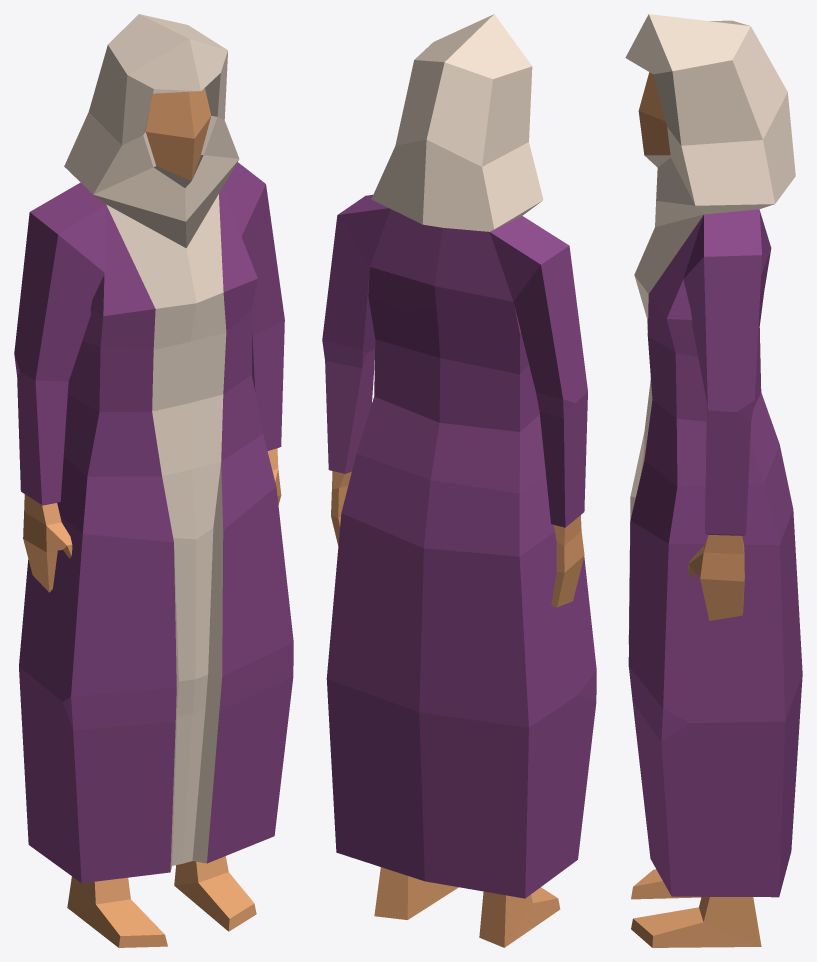
The model's file is people_woman-nanny.fbx.
3 views of the same model, side by side, from view 1: azimuth 30°, elevation 25°; view 2: azimuth 150°, elevation 25°; view 3: azimuth 270°, elevation 25° (orthographic). The views are drawn at different scales.
Visible parts, largest first — view 1: people_woman_nanny; view 2: people_woman_nanny; view 3: people_woman_nanny.
Part boxes in pixels (x1,y1,x2,y2): people_woman_nanny: [14, 14, 293, 947]; people_woman_nanny: [322, 14, 596, 947]; people_woman_nanny: [625, 14, 802, 947].
Size of the model in its own units: 58.7 by 199 by 35.59.
